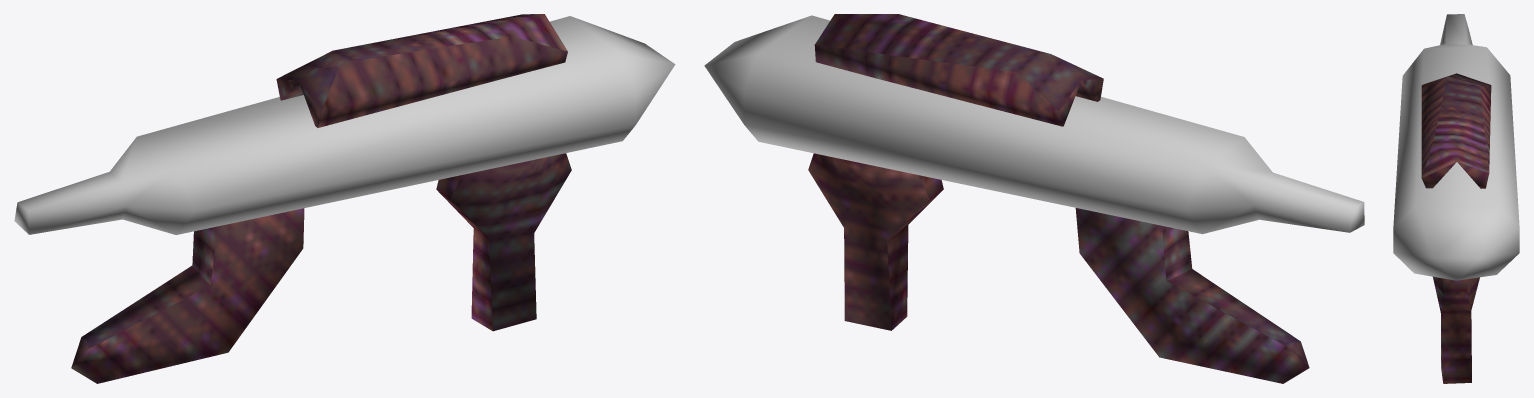
The model's file is fuCKiNGrifle.fbx.
3 renders of one model, left to right at view 1: azimuth 30°, elevation 25°; view 2: azimuth 150°, elevation 25°; view 3: azimuth 270°, elevation 25°, orthographic. The views are drawn at different scales.
Parts seen in each view (by area): view 1: Cube; view 2: Cube; view 3: Cube.
Part boxes in pixels (<box>): Cube: <box>14,14,675,383</box>; Cube: <box>704,14,1364,383</box>; Cube: <box>1393,14,1519,383</box>.
Bounding box in the file's own units: 706 × 319 × 156.
